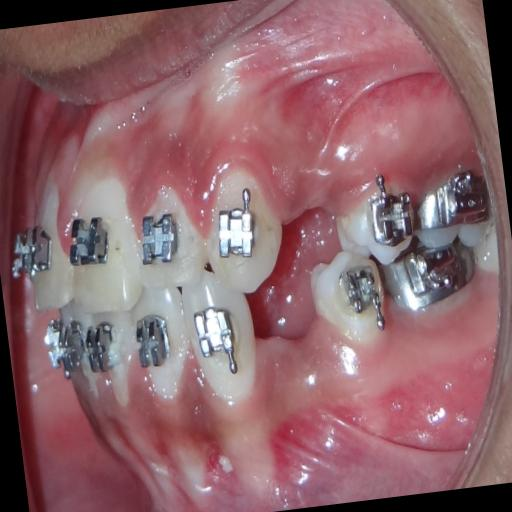correct_brace: (306, 245, 395, 347), (330, 176, 416, 274), (60, 202, 116, 278), (137, 197, 189, 272), (212, 189, 260, 260), (331, 260, 385, 322)
incorrect_brace: (136, 183, 208, 297), (369, 184, 415, 248)
